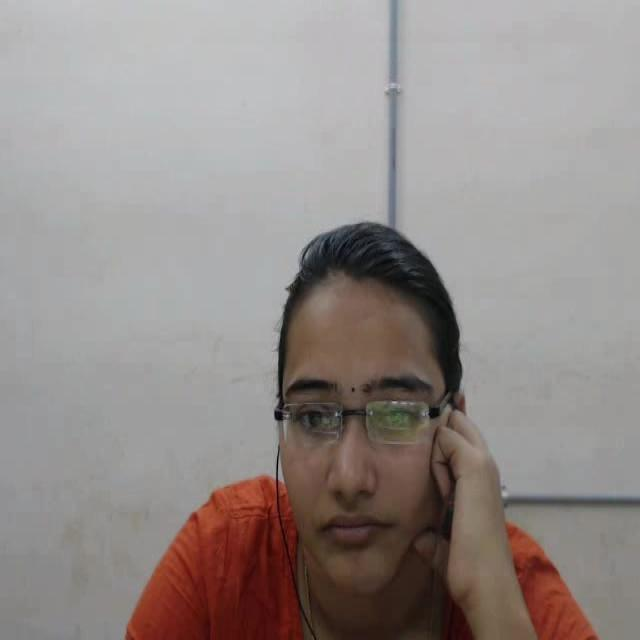Bored: (228, 182, 540, 640)
